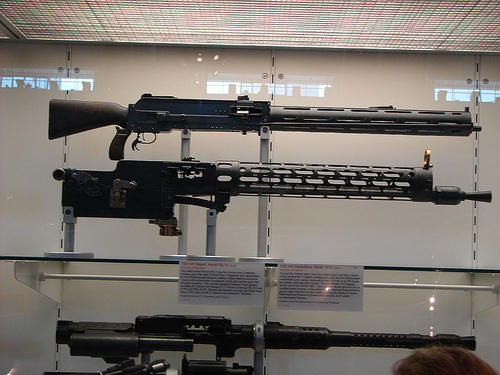rifle: (45, 95, 477, 153), (47, 161, 479, 219), (52, 305, 484, 363)
